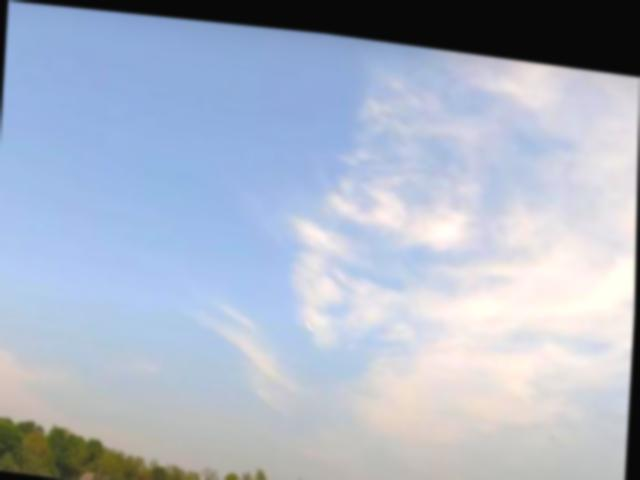iha: (306, 313, 316, 325)
